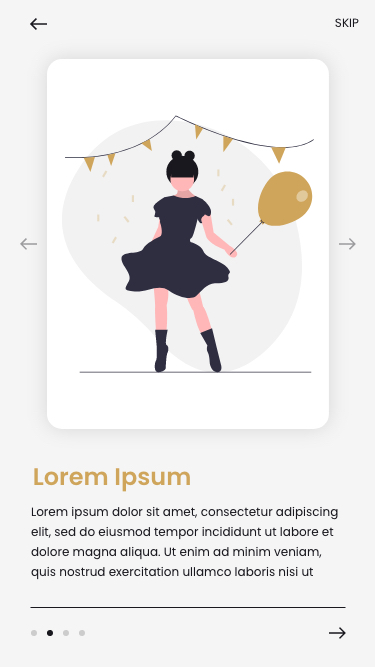Icon: (30, 18, 48, 32), (20, 238, 39, 251), (329, 626, 347, 639), (339, 238, 356, 250)
Image: (62, 116, 315, 374)
PageIndicator: (31, 629, 87, 637)
Text: (31, 506, 339, 580), (34, 467, 191, 493), (335, 18, 360, 28)
